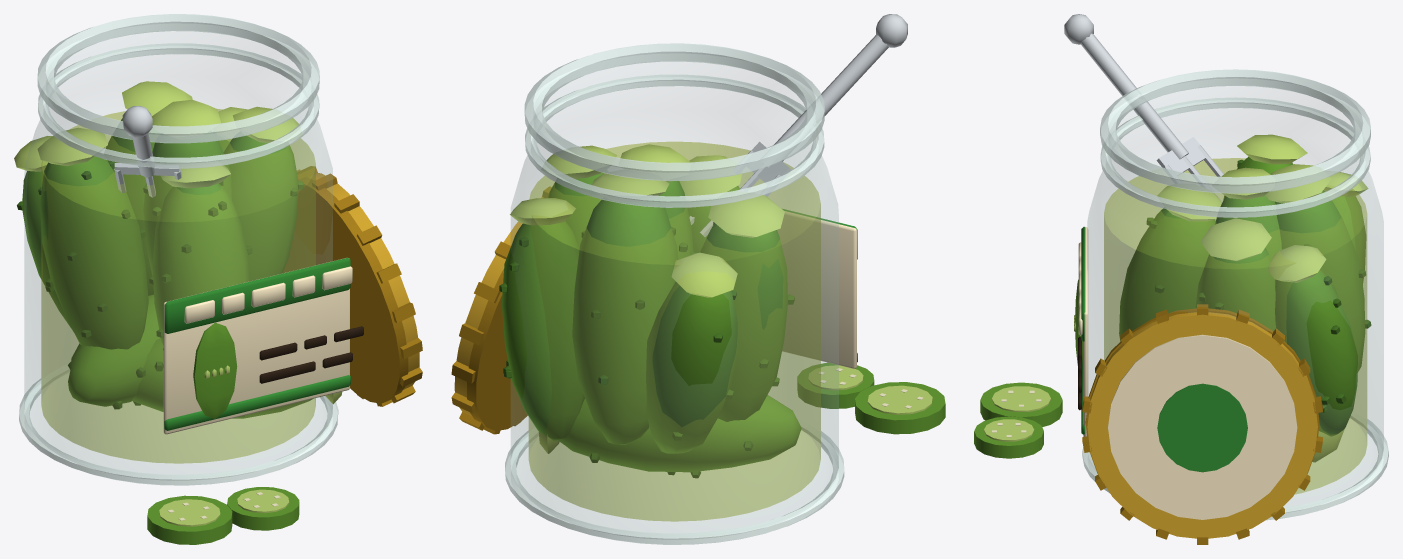
File: dispenser_pickles.glb
The picture shows the model from 3 angles, left to right: view 1: azimuth 30°, elevation 25°; view 2: azimuth 150°, elevation 25°; view 3: azimuth 270°, elevation 25°; orthographic projection. The views are drawn at different scales.
Visible parts, largest first — view 1: DispenserPickles; view 2: DispenserPickles; view 3: DispenserPickles.
Part boxes in pixels (x1,y1,x2,y2): DispenserPickles: [14, 14, 422, 544]; DispenserPickles: [451, 14, 945, 544]; DispenserPickles: [974, 14, 1388, 544].
Size of the model in its own units: 4.32 by 5.23 by 5.04.
